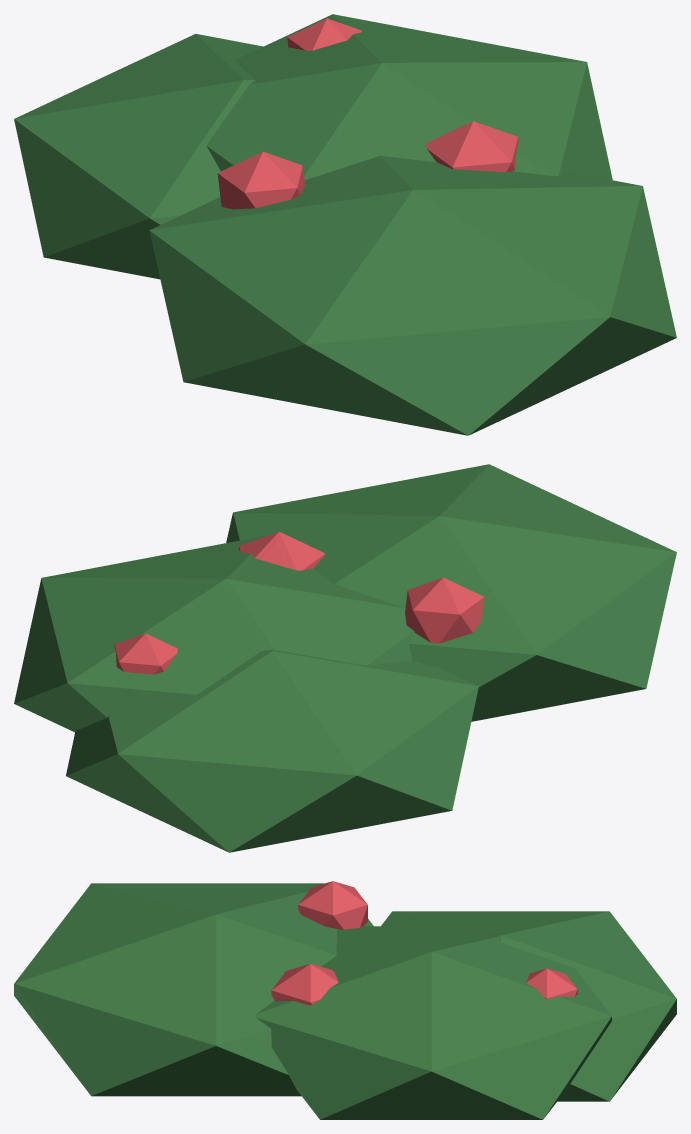
Rendered from berry_patch_strawberry.glb.
3 views of the same model, one above another, from view 1: azimuth 30°, elevation 25°; view 2: azimuth 150°, elevation 25°; view 3: azimuth 270°, elevation 25° (orthographic). The views are drawn at different scales.
Visible parts, largest first — view 1: berry_patch_strawberry; view 2: berry_patch_strawberry; view 3: berry_patch_strawberry.
Boxes of the visible parts, x1,y1,x2,y2 form: berry_patch_strawberry: [14, 14, 676, 435]; berry_patch_strawberry: [14, 464, 676, 852]; berry_patch_strawberry: [14, 881, 676, 1119].
Size of the model in its own units: 0.3801 by 0.1376 by 0.5061.
